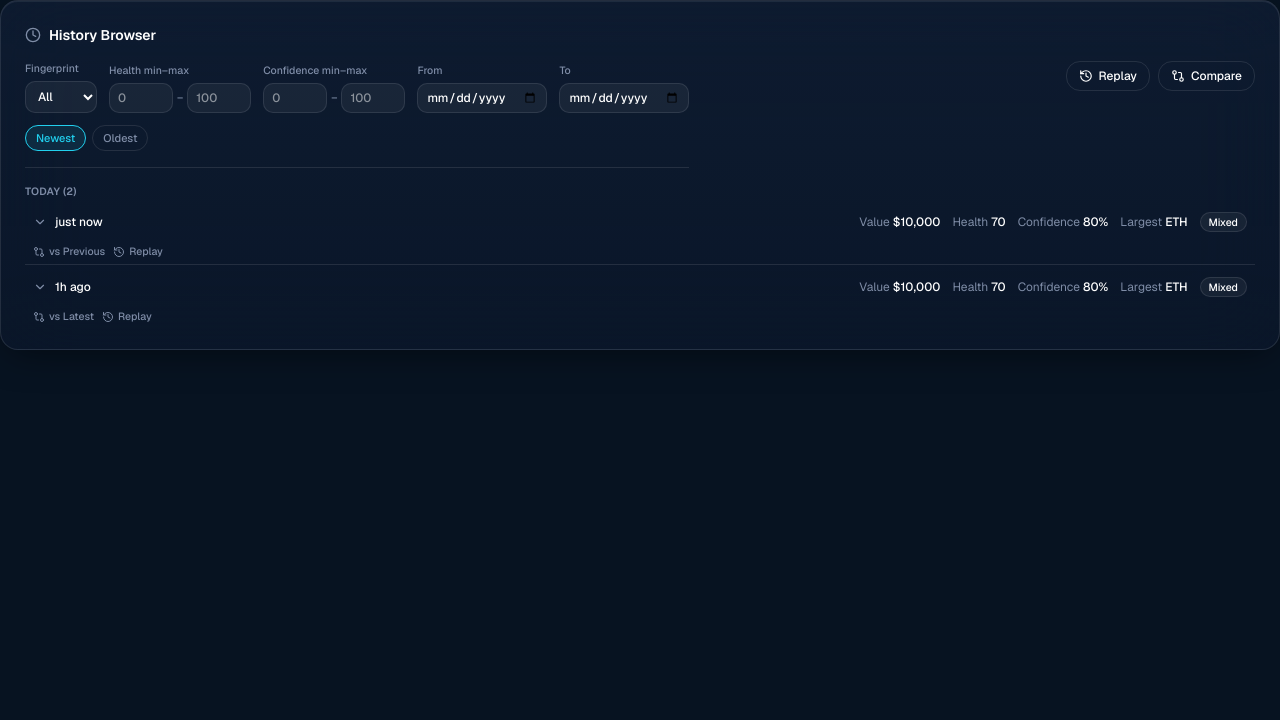
Test: HistoryBrowserSection — V4-HISTORY-003 Snapshot Compare › EQUAL SNAPSHOTS: comparing two snapshots with identical stored values shows the honest 'identical' message
Click the button "vs Previous".
click(69, 252)  # box [33,244,105,260]
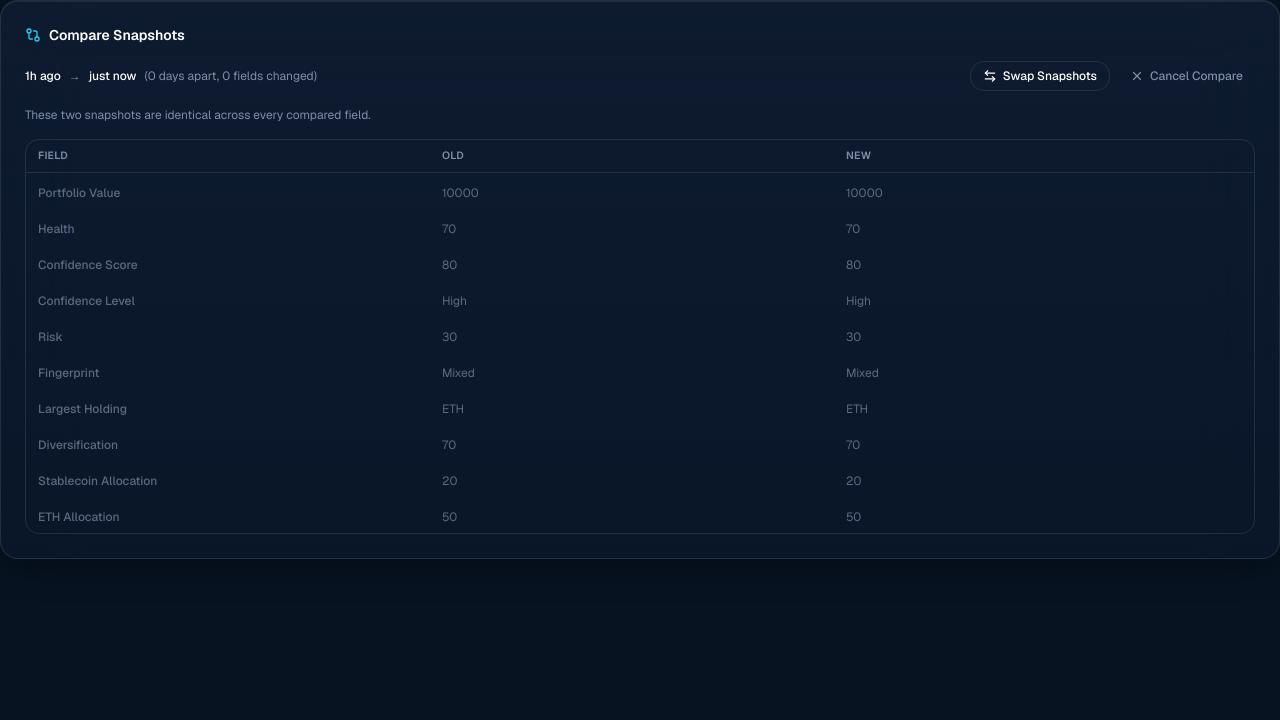
Check: the text "identical across every compared field" is shown, box [25,107,371,123]
